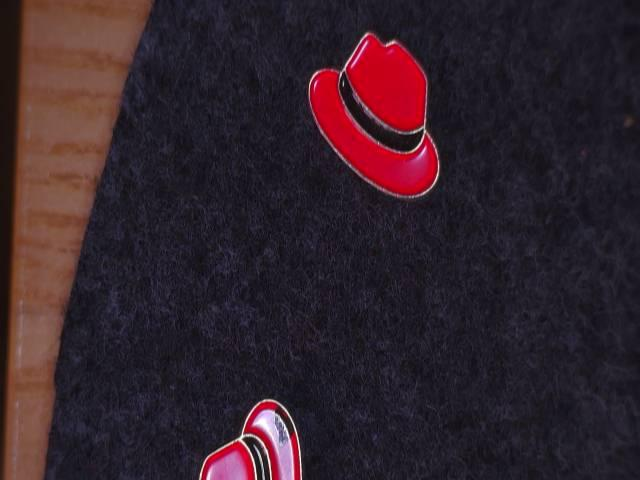Red-Hat: (286, 14, 475, 220), (177, 370, 342, 480)
Scratch: (247, 402, 332, 454)
